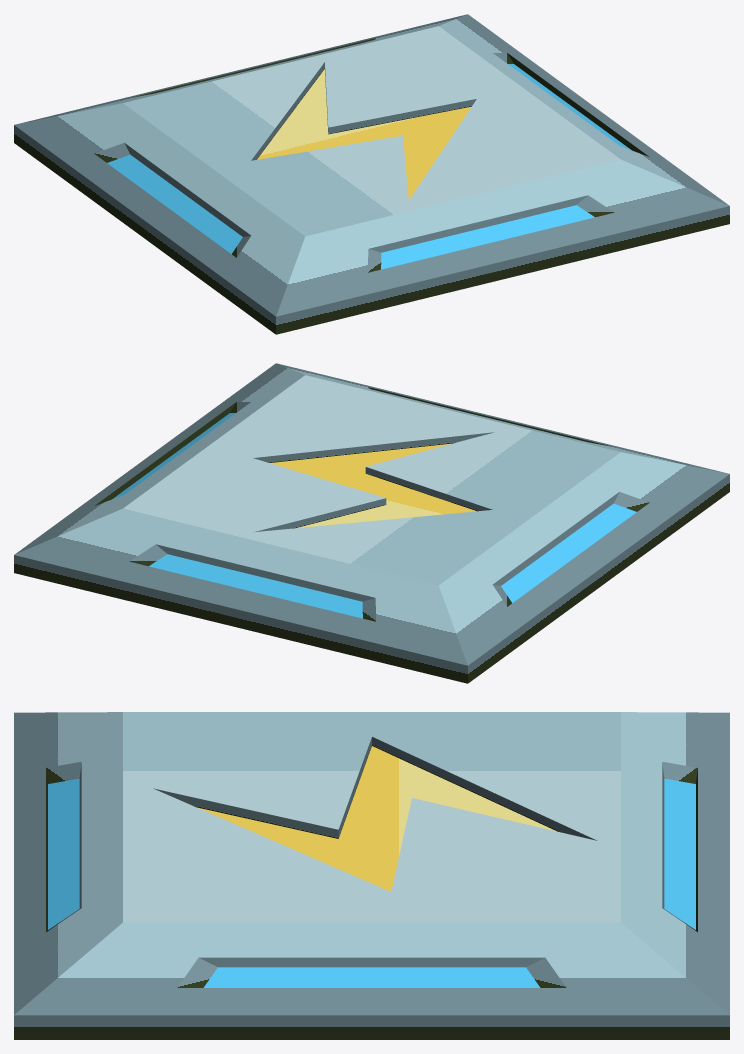
The model's file is Chargepad.glb.
3 views of the same model, one above another, from view 1: azimuth 30°, elevation 25°; view 2: azimuth 150°, elevation 25°; view 3: azimuth 270°, elevation 25° (orthographic). The views are drawn at different scales.
Parts seen in each view (by area): view 1: Chargepad; view 2: Chargepad; view 3: Chargepad.
Part boxes in pixels (x1,y1,x2,y2): Chargepad: (14, 14, 729, 334); Chargepad: (14, 363, 729, 683); Chargepad: (14, 712, 729, 1039).
Bounding box in the file's own units: 0.6092 × 0.067 × 0.6092.
Materials: 2 (2 with a texture image).
